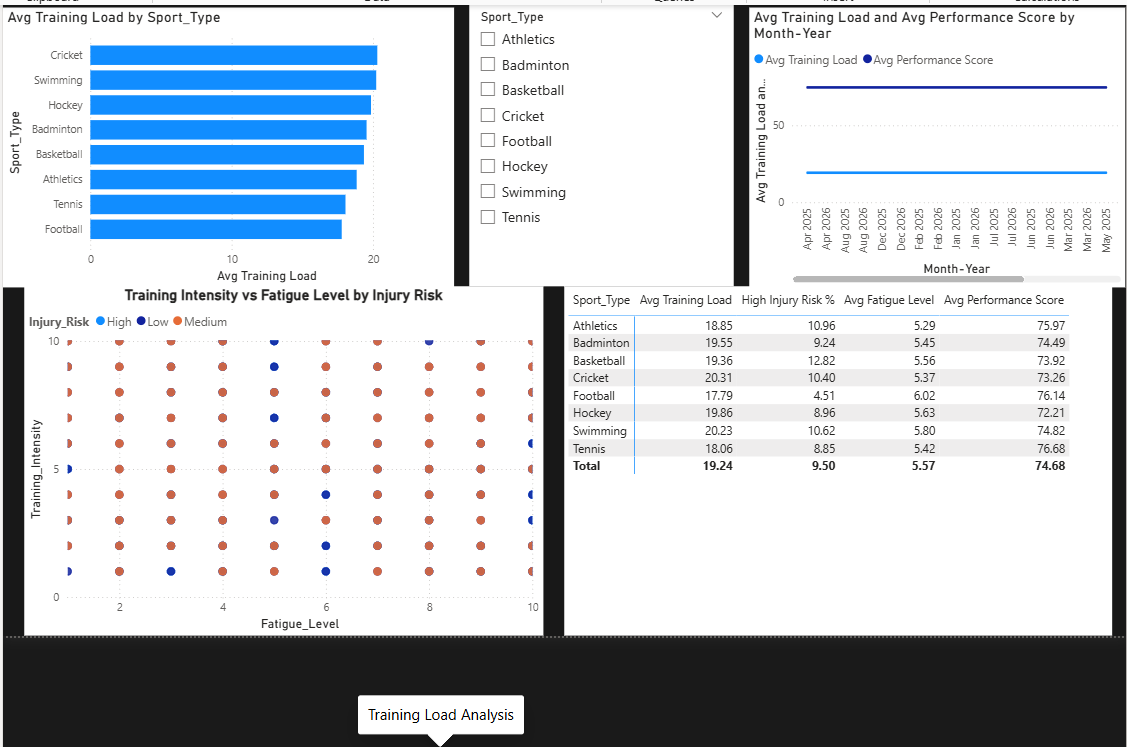

This screenshot's page, from the dashboard's own definition file:
{"tool":"powerbi","page":{"name":"Training Load Analysis","canvas":[1280,720],"ordinal":1},"visuals":[{"type":"slicer","fields":{"Values":["cleaned_athlete_training_data.Sport_Type"]},"box":[532.2,0,301.3,321.1],"z":0},{"type":"scatterChart","title":"Training Intensity vs Fatigue Level by Injury Risk","fields":{"X":["cleaned_athlete_training_data.Fatigue_Level"],"Y":["cleaned_athlete_training_data.Training_Intensity"],"Series":["cleaned_athlete_training_data.Injury_Risk"]},"box":[24.2,321.1,591.6,398.1],"z":2000},{"type":"clusteredBarChart","fields":{"Category":["cleaned_athlete_training_data.Sport_Type"],"Y":["Table.Avg Training Load"]},"box":[0,2.2,514.6,318.9],"z":3000},{"type":"lineChart","fields":{"Category":["Date.Month-Year"],"Y":["Table.Avg Training Load","Table.Avg Performance Score"]},"box":[851.1,2.2,428.9,318.9],"z":4000},{"type":"pivotTable","fields":{"Rows":["cleaned_athlete_training_data.Sport_Type"],"Values":["Table.Avg Training Load","Table.High Injury Risk %","Table.Avg Fatigue Level","Table.Avg Performance Score"]},"box":[640,321.1,624.6,398.1],"z":5000}]}

Visuals, with their boxes on the page's 1280x720 design canvas (x1, y1, x2, y2). These are canvas units, not pixel positions in the 1127x747 screenshot, which may show the page scaled, cropped or inside an application window:
slicer - cleaned_athlete_training_data.Sport_Type: box(532, 0, 834, 321)
"Training Intensity vs Fatigue Level by Injury Risk" scatterChart: box(24, 321, 616, 719)
clusteredBarChart - cleaned_athlete_training_data.Sport_Type x Table.Avg Training Load: box(0, 2, 515, 321)
lineChart - Date.Month-Year x Table.Avg Training Load: box(851, 2, 1280, 321)
pivotTable - cleaned_athlete_training_data.Sport_Type x Table.Avg Training Load: box(640, 321, 1265, 719)
